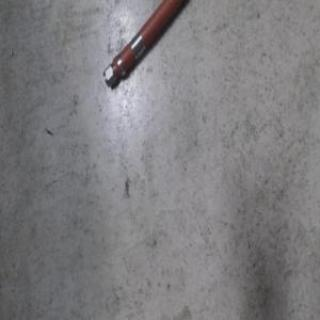Hosetrack_idkeyframe: (101, 0, 190, 91)
